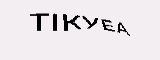І: (50, 12, 61, 35)
А: (116, 19, 132, 38)
Е: (100, 17, 116, 36)
К: (62, 13, 81, 34)
Т: (28, 12, 51, 33)
У: (81, 14, 99, 32)
